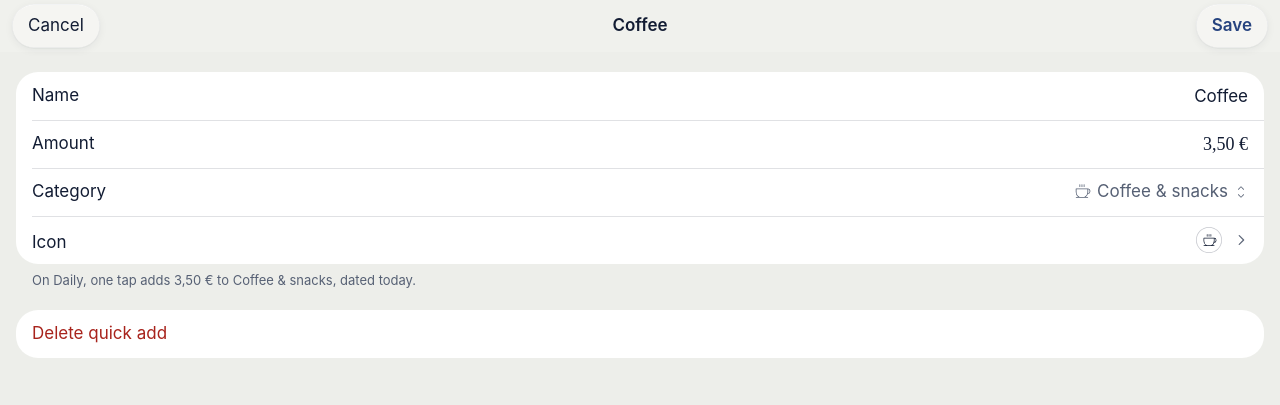
Test case: QuickAddSheet (SPEC §3.7) › limits the name to 16 characters and needs an amount above 0
The width and height of the screenshot is (1280, 405).
Replace the text in the field labelled "Amount" with "0" at (1224, 144), box [1201, 122, 1248, 166]
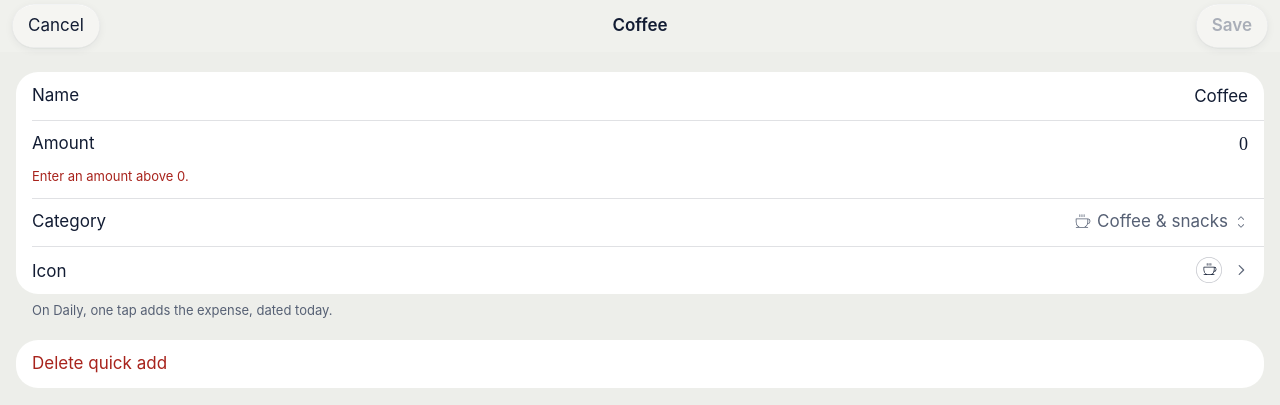
Expected: the button with test id "sheet-save" is disabled, [1196, 4, 1268, 48]
Expected: the text "Enter an amount above 0." is shown, [32, 168, 189, 184]
